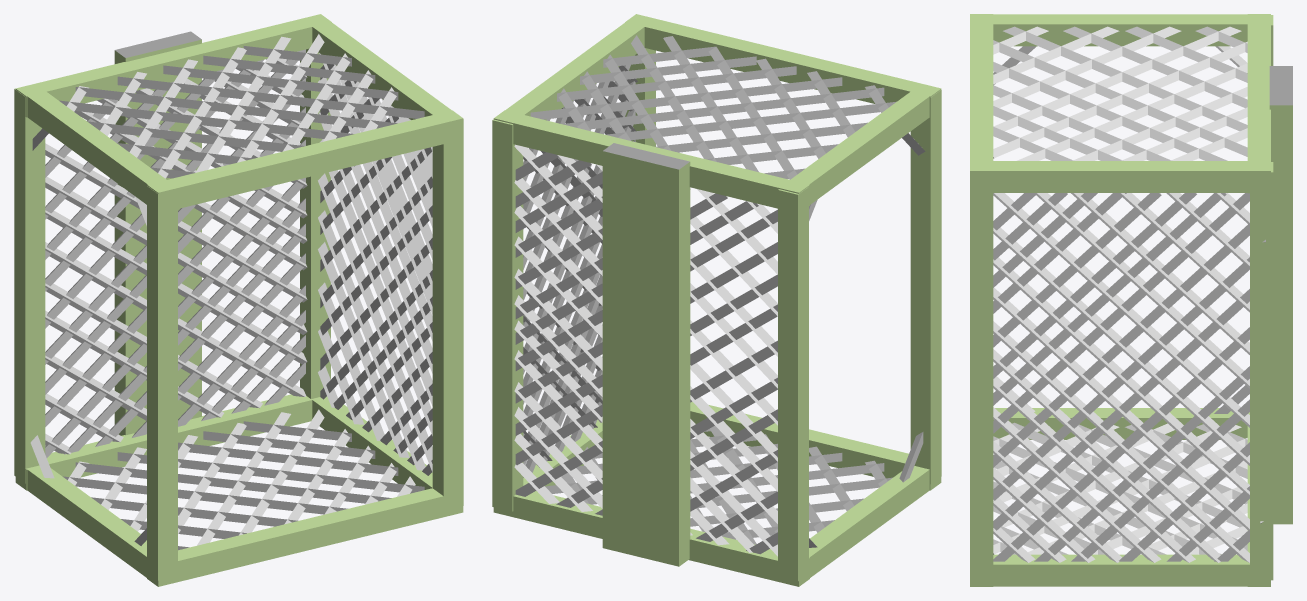
Rendered from elevator_1.fbx.
3 renders of one model, left to right at view 1: azimuth 30°, elevation 25°; view 2: azimuth 150°, elevation 25°; view 3: azimuth 270°, elevation 25°, orthographic. The views are drawn at different scales.
Parts seen in each view (by area): view 1: Cube_3; view 2: Cube_3; view 3: Cube_3.
Part boxes in pixels (left/top/right/bottom): Cube_3: left=14, top=14, right=463, bottom=586; Cube_3: left=492, top=14, right=941, bottom=586; Cube_3: left=970, top=14, right=1292, bottom=586.
Size of the model in its own units: 243 by 302 by 209.
